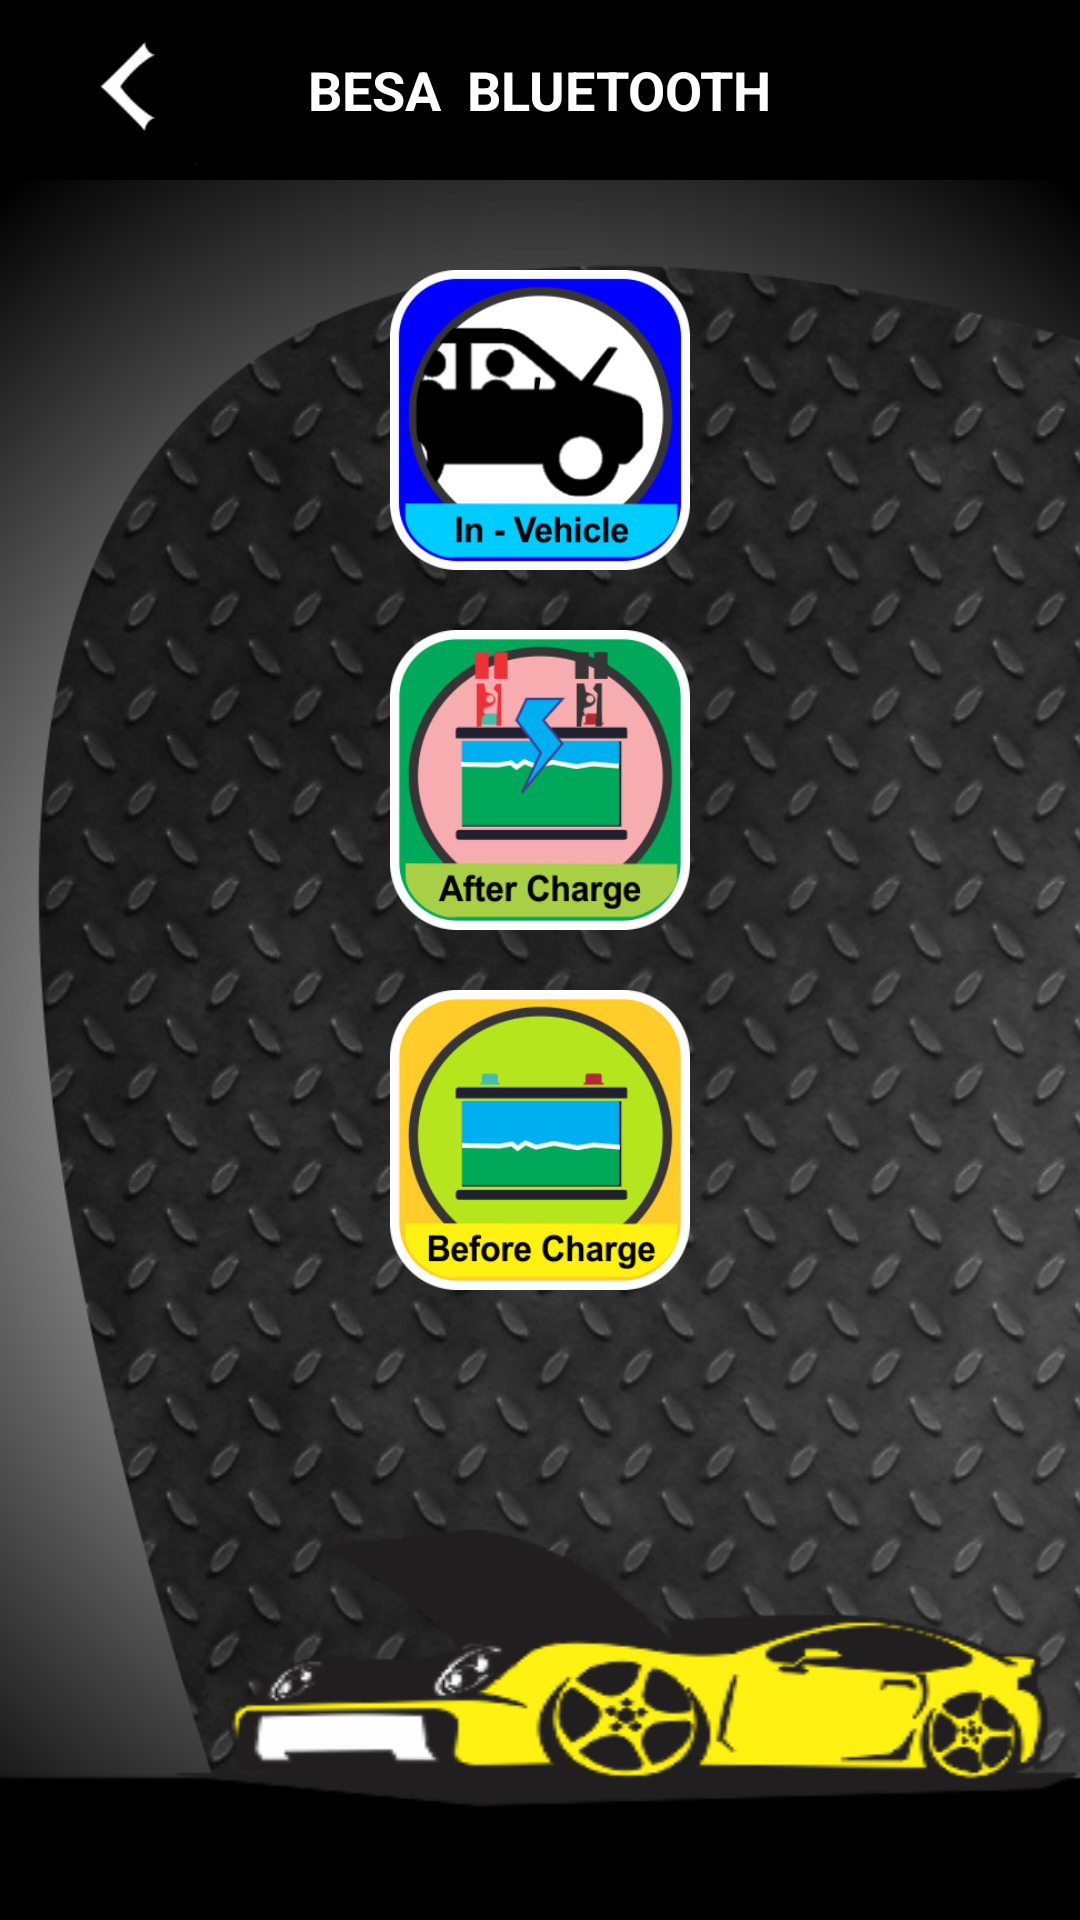

Screen size 1080×1920. Icon name, then its center in pixels as (x=x, y=y):
back: (x=127, y=86)
